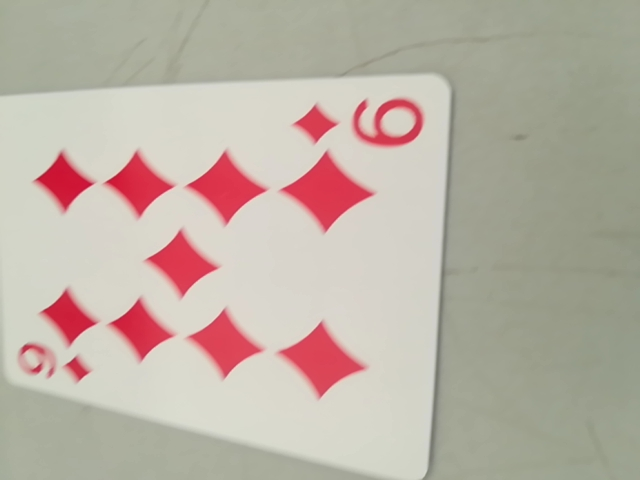fk 9: (292, 86, 433, 159), (8, 336, 98, 390)
